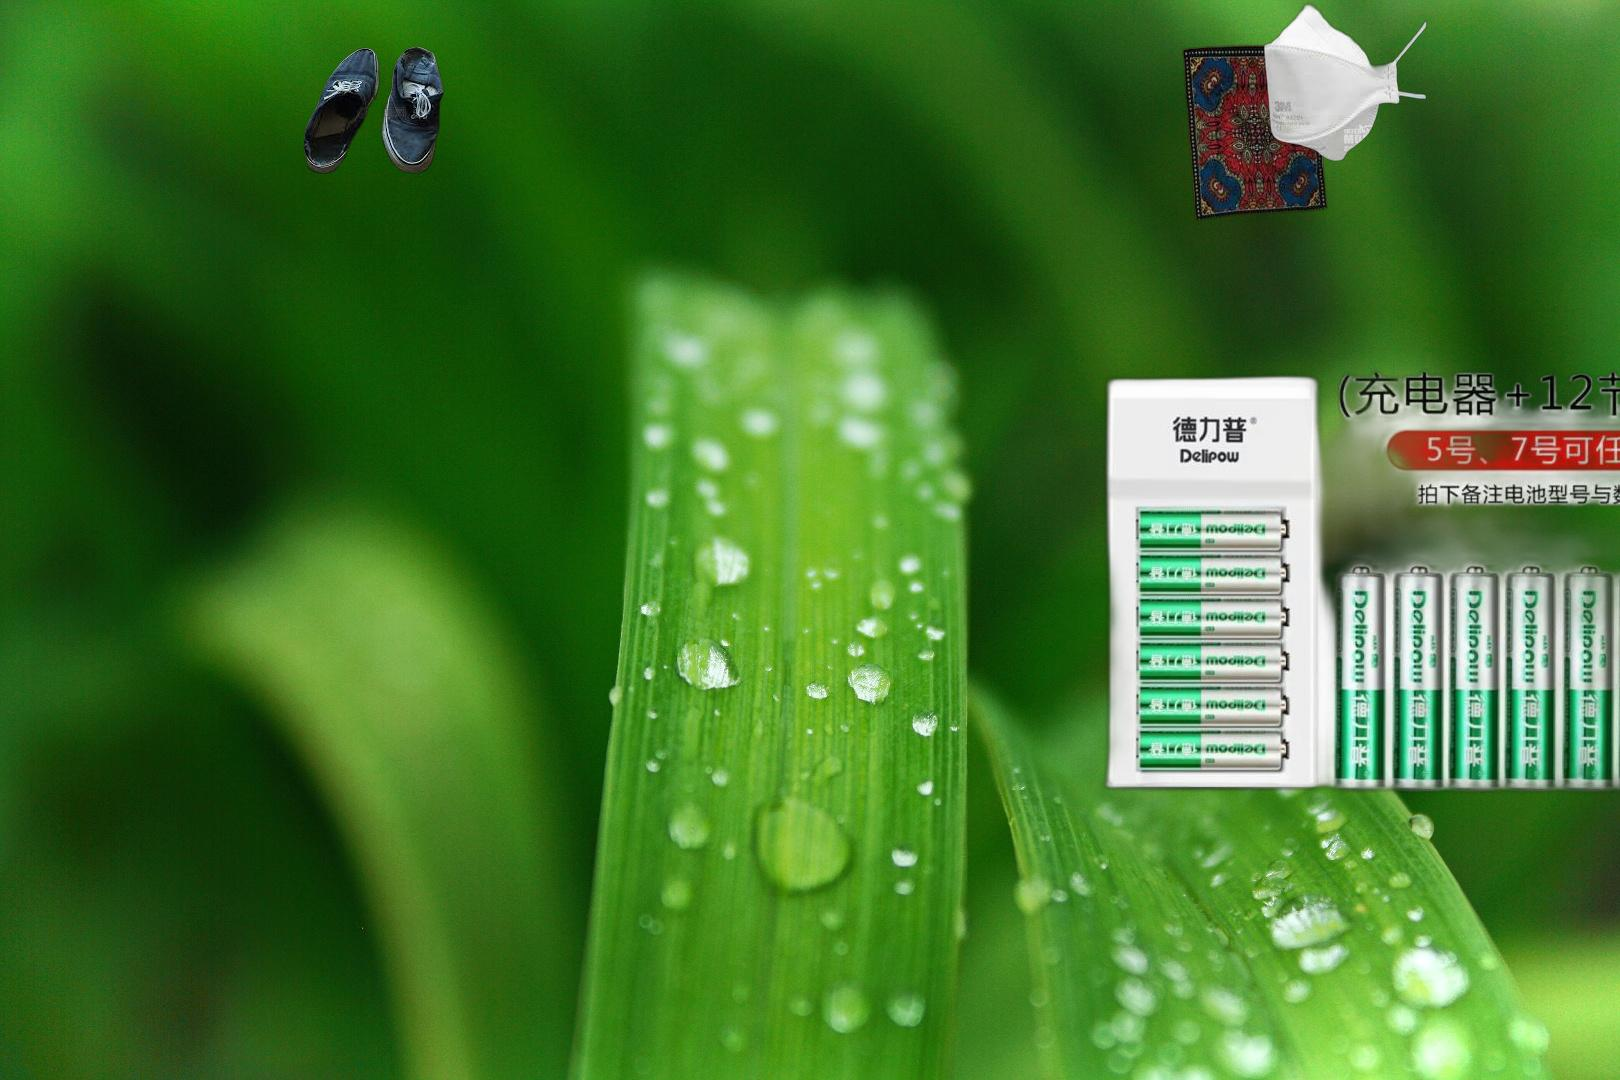battery: (1097, 306, 1620, 799)
clothes: (1180, 41, 1332, 224)
shoes: (300, 45, 447, 176)
trash: (1261, 0, 1431, 164)
